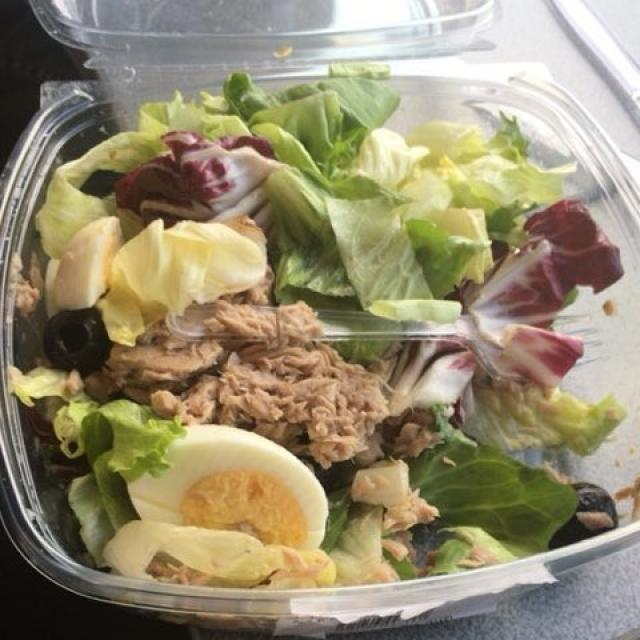egg: (122, 432, 349, 544)
salad: (26, 59, 608, 579)
tuna: (64, 291, 438, 534)
